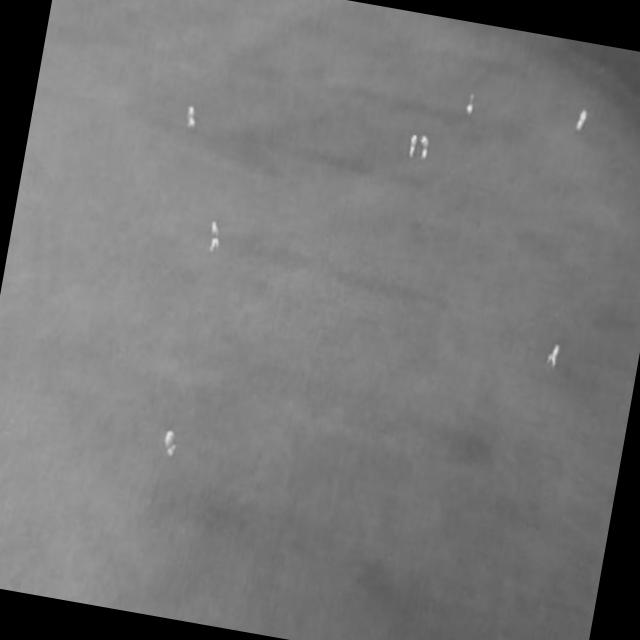person: (161, 428, 180, 460), (206, 222, 223, 257), (546, 339, 561, 370), (184, 104, 198, 131), (417, 135, 430, 161), (575, 108, 587, 135), (465, 91, 477, 117), (406, 133, 418, 159)
